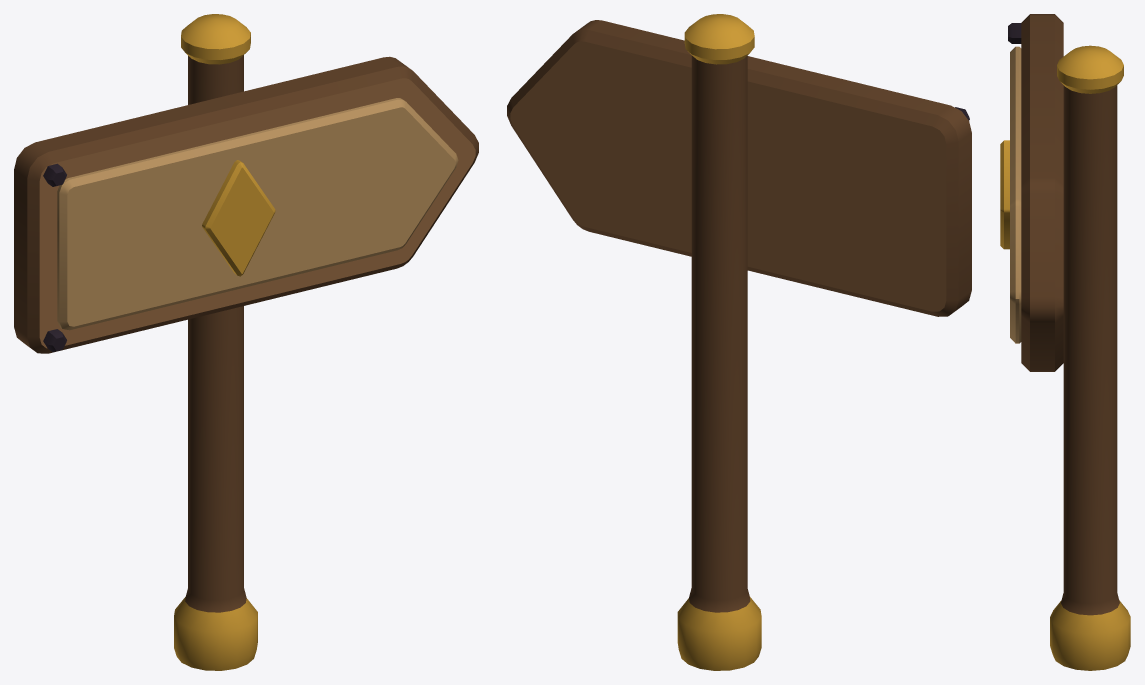
Rendered from Sign_10.glb.
3 renders of one model, left to right at view 1: azimuth 30°, elevation 25°; view 2: azimuth 150°, elevation 25°; view 3: azimuth 270°, elevation 25°, orthographic. The views are drawn at different scales.
Visible parts, largest first — view 1: Sign_10; view 2: Sign_10; view 3: Sign_10.
Boxes of the visible parts, x1=… form: Sign_10: x1=14, y1=14, x2=478, y2=670; Sign_10: x1=507, y1=14, x2=971, y2=670; Sign_10: x1=1000, y1=14, x2=1130, y2=670.
Bounding box in the file's own units: 2.59 × 3.47 × 0.68.
